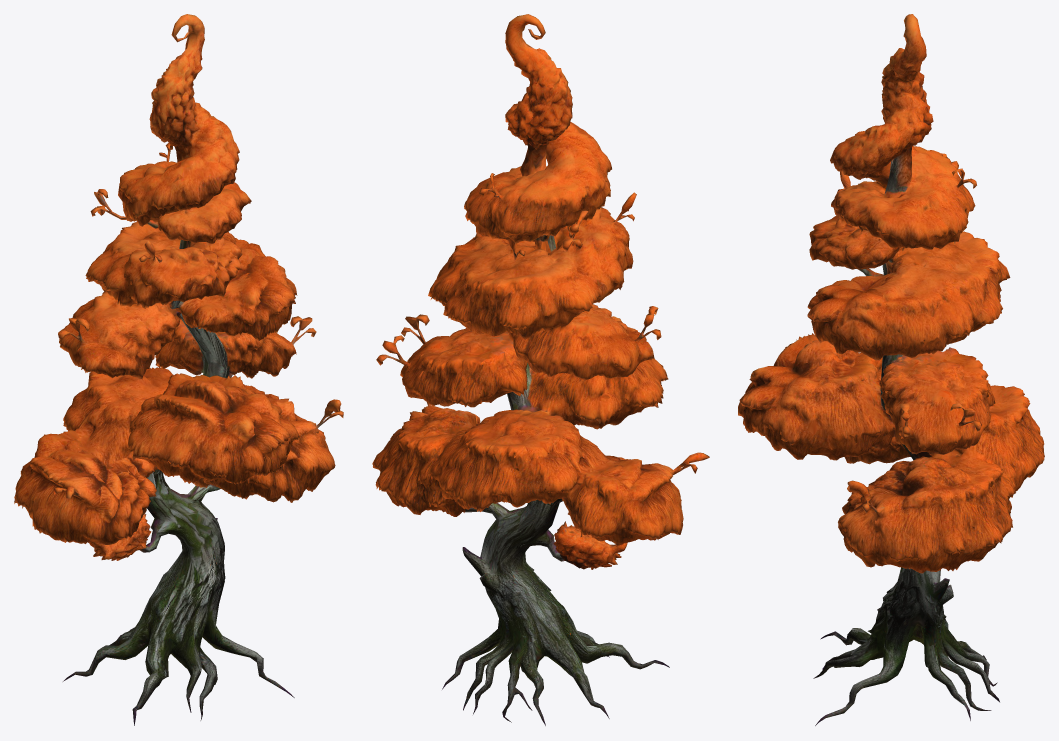
File: Copper_Cloud_Bonsai.glb
3 views of the same model, side by side, from view 1: azimuth 30°, elevation 25°; view 2: azimuth 150°, elevation 25°; view 3: azimuth 270°, elevation 25° (orthographic). The views are drawn at different scales.
Visible parts, largest first — view 1: Copper_Cloud_Bonsai; view 2: Copper_Cloud_Bonsai; view 3: Copper_Cloud_Bonsai.
Boxes of the visible parts, x1,y1,x2,y2 form: Copper_Cloud_Bonsai: (14,14,343,725); Copper_Cloud_Bonsai: (372,14,709,725); Copper_Cloud_Bonsai: (738,14,1044,725).
Bounding box in the file's own units: 0.8582 × 1.89 × 0.7721.
1 material, 1 textured.
